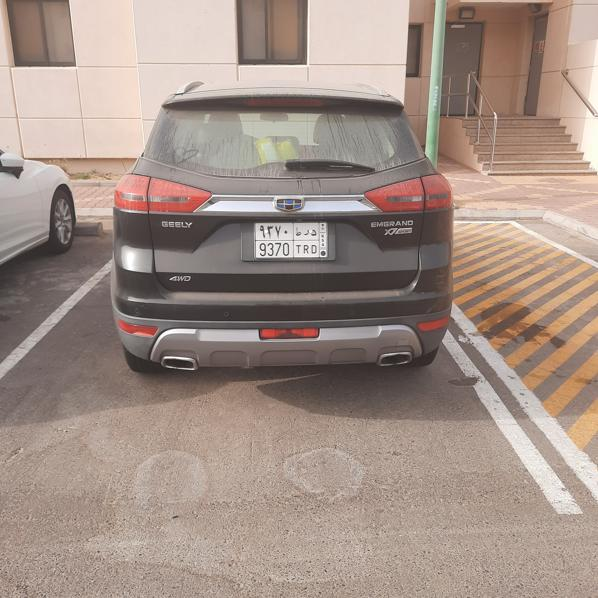numberplate: (255, 221, 329, 258)
